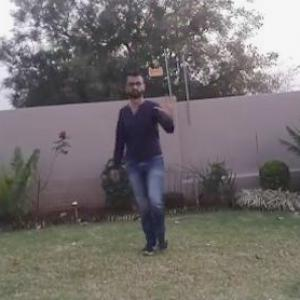follow_hand: (156, 92, 180, 118)
